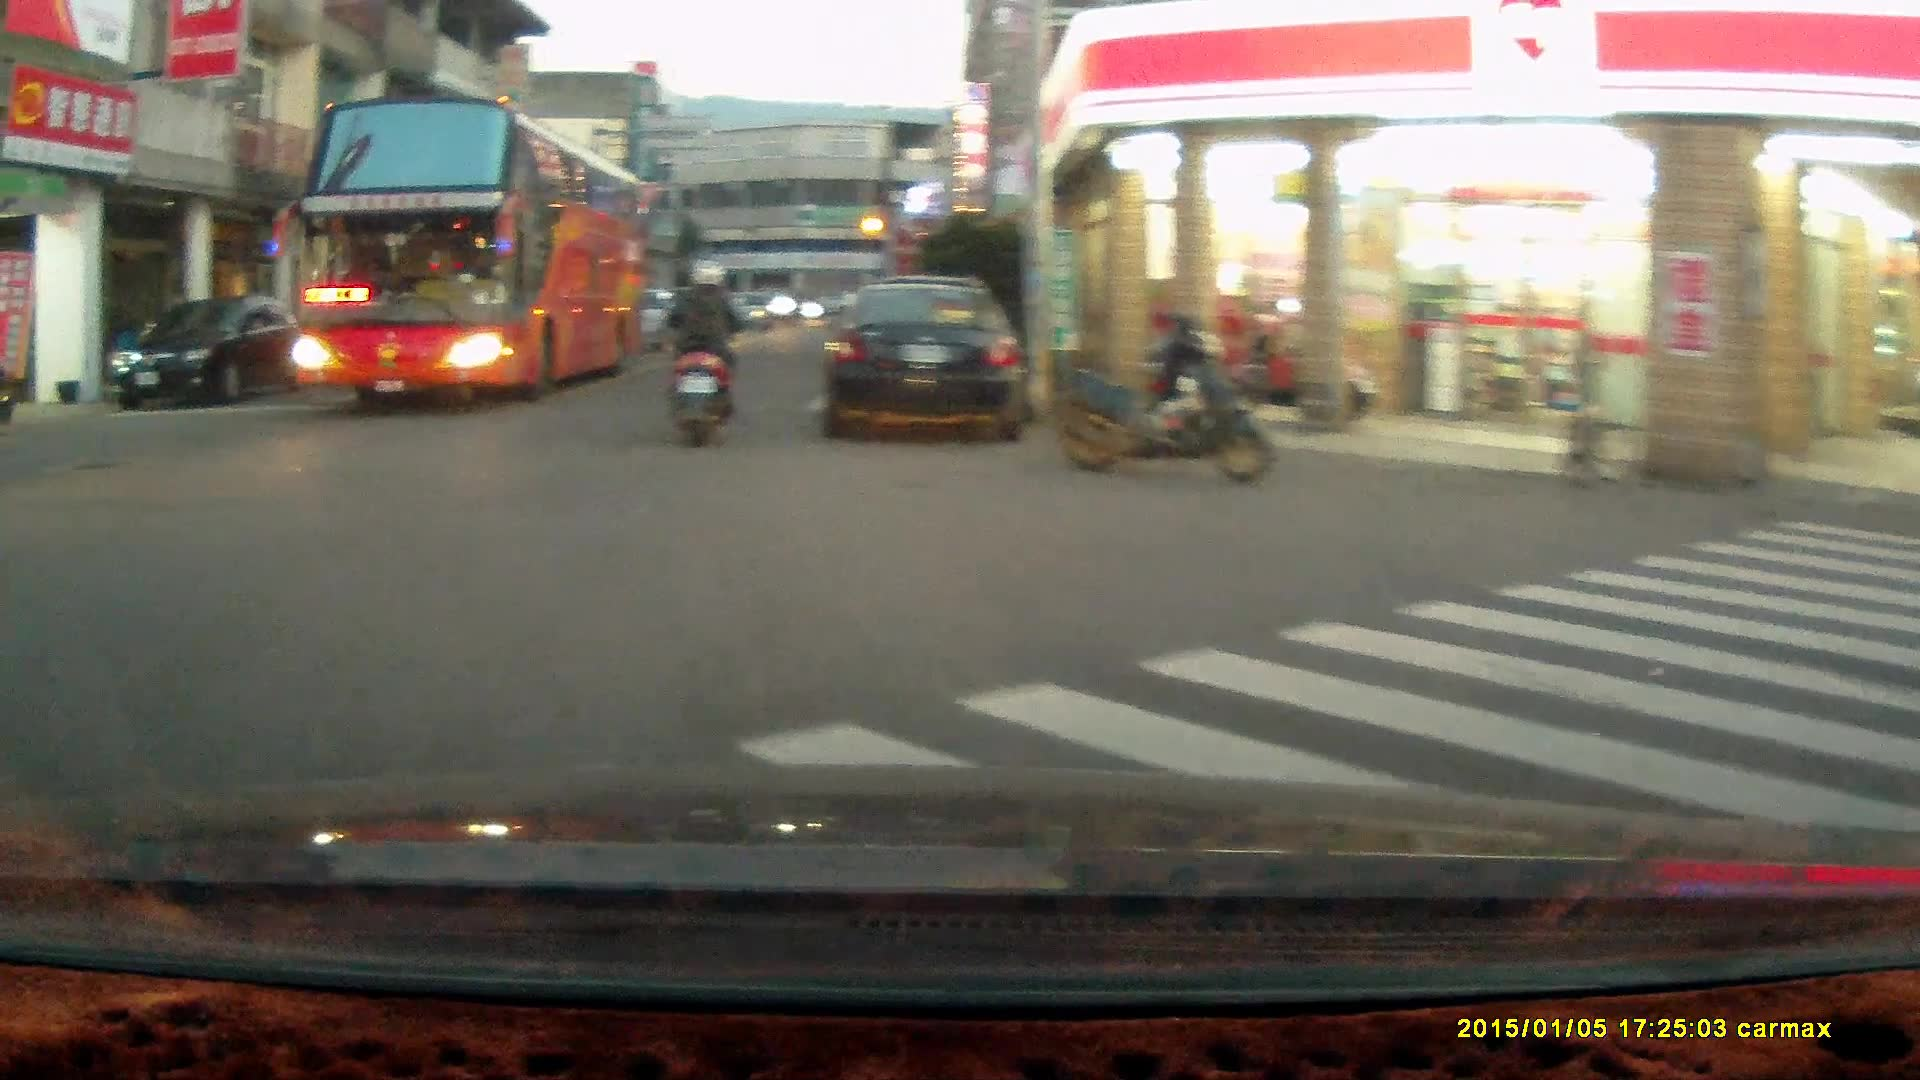rider: (652, 263, 738, 456)
vehicle: (284, 101, 650, 414), (816, 275, 1029, 439), (107, 295, 312, 408)
